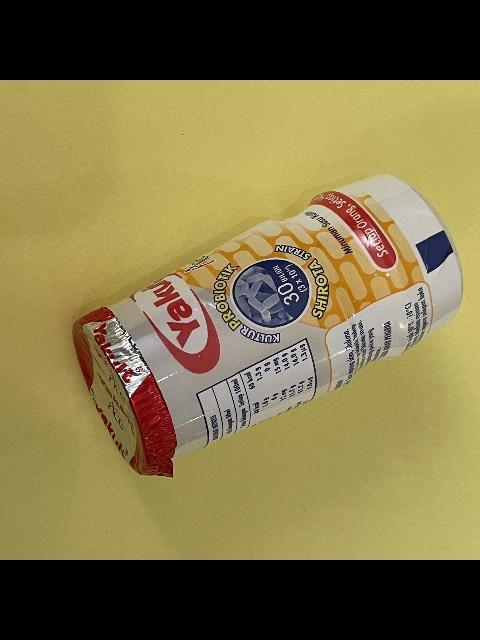plasticbottle: (68, 171, 466, 479)
